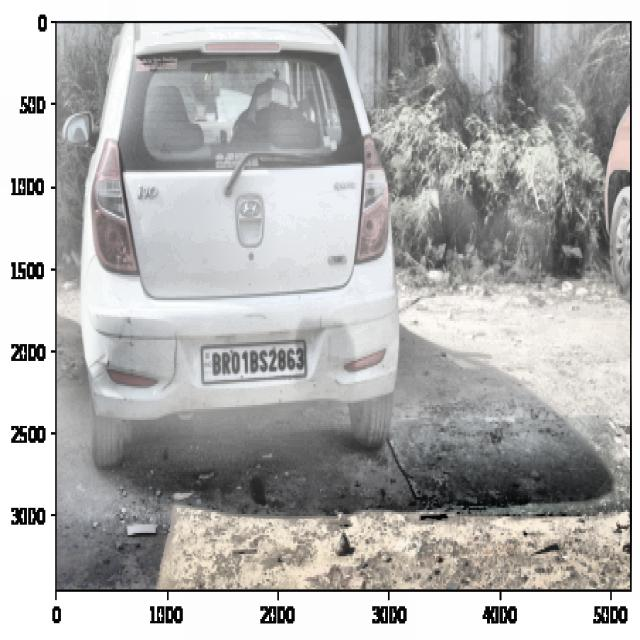license_plate: (208, 340, 310, 382)
